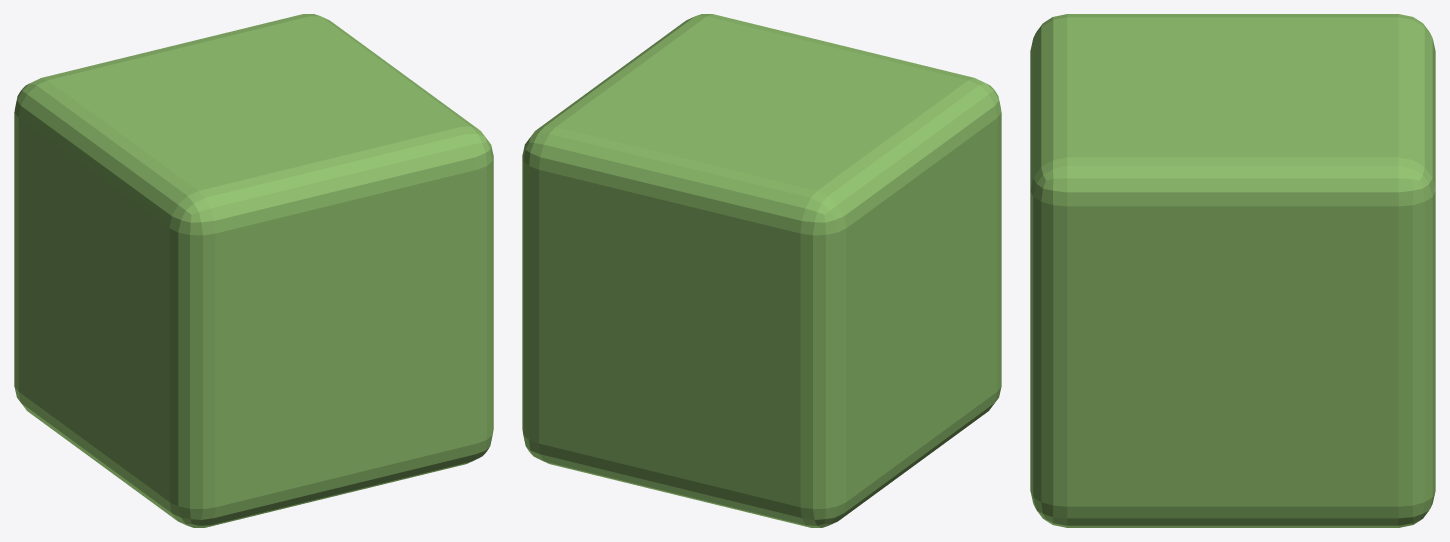
File: cubo_suavizado.gltf
3 views of the same model, side by side, from view 1: azimuth 30°, elevation 25°; view 2: azimuth 150°, elevation 25°; view 3: azimuth 270°, elevation 25° (orthographic). The views are drawn at different scales.
Parts seen in each view (by area): view 1: Cube; view 2: Cube; view 3: Cube.
Part boxes in pixels (x1,y1,x2,y2): Cube: (14,14,493,527); Cube: (522,14,1001,527); Cube: (1030,14,1435,527).
Size of the model in its own units: 2 by 2 by 2.
